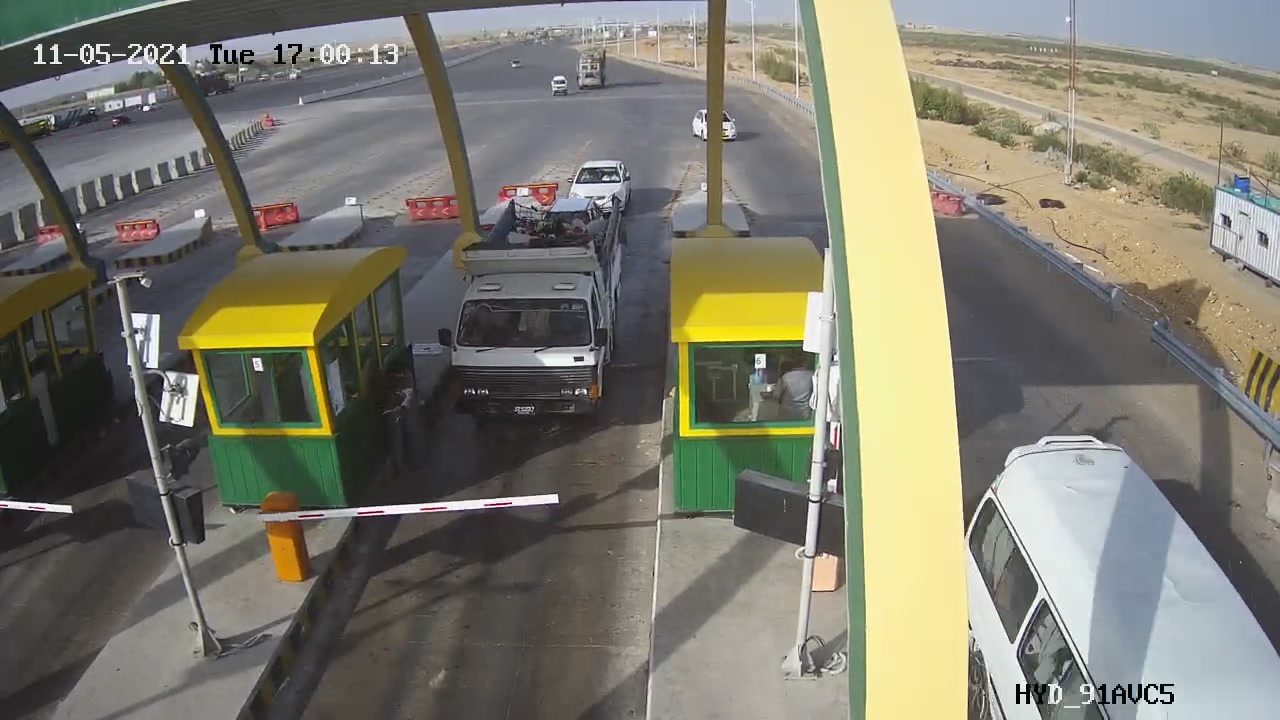F3: (430, 192, 638, 436)
